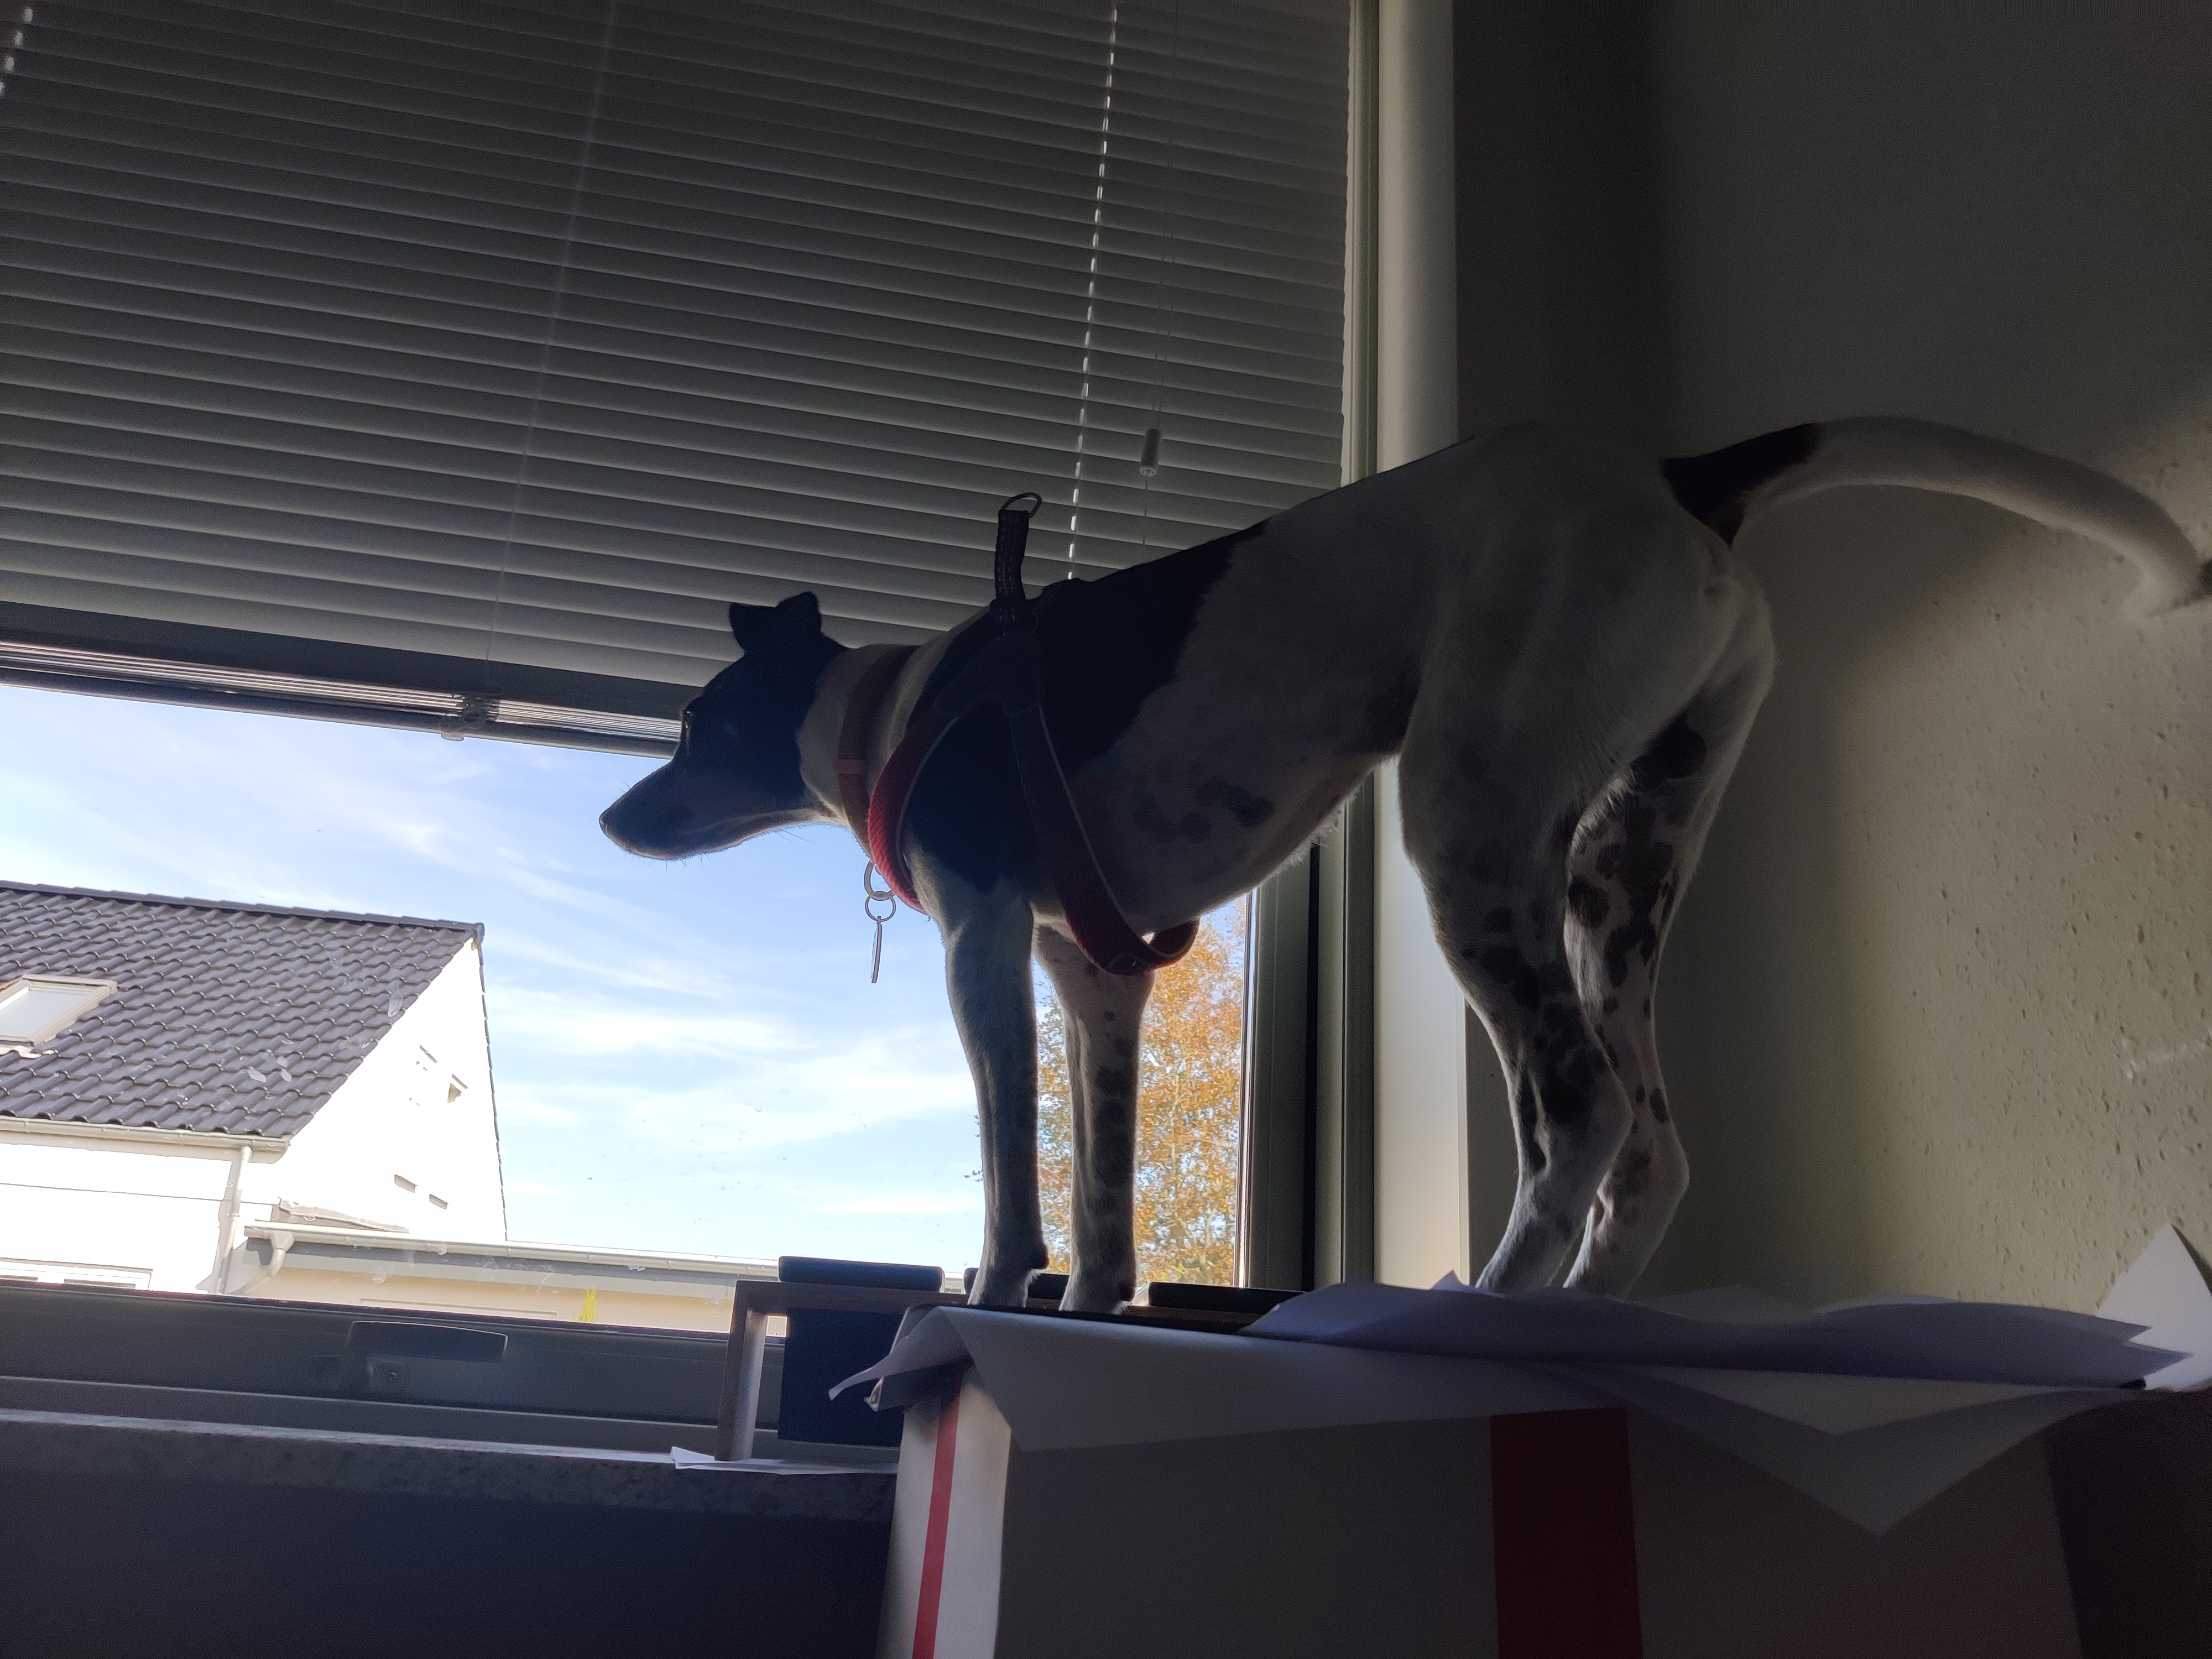Dog: (585, 396, 2212, 1337)
